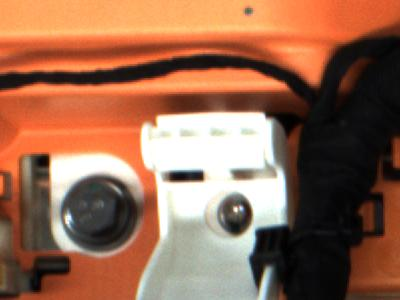nut_b: (60, 170, 137, 254)
